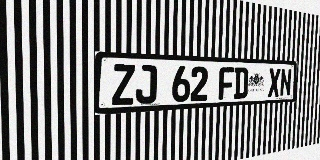2: (191, 66, 208, 101)
6: (172, 66, 191, 102)
D: (234, 67, 248, 99)
F: (218, 67, 234, 100)
J: (136, 65, 157, 104)
N: (280, 68, 292, 97)
X: (268, 68, 281, 97)
Z: (112, 64, 135, 105)
